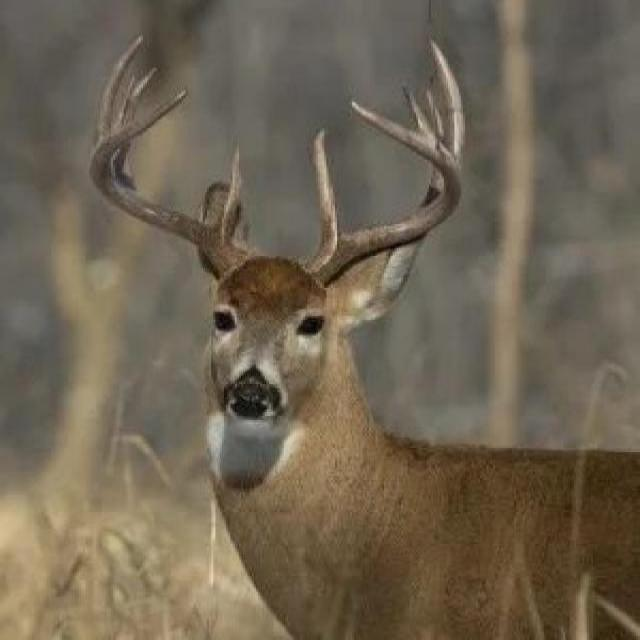deer: (85, 32, 640, 639)
